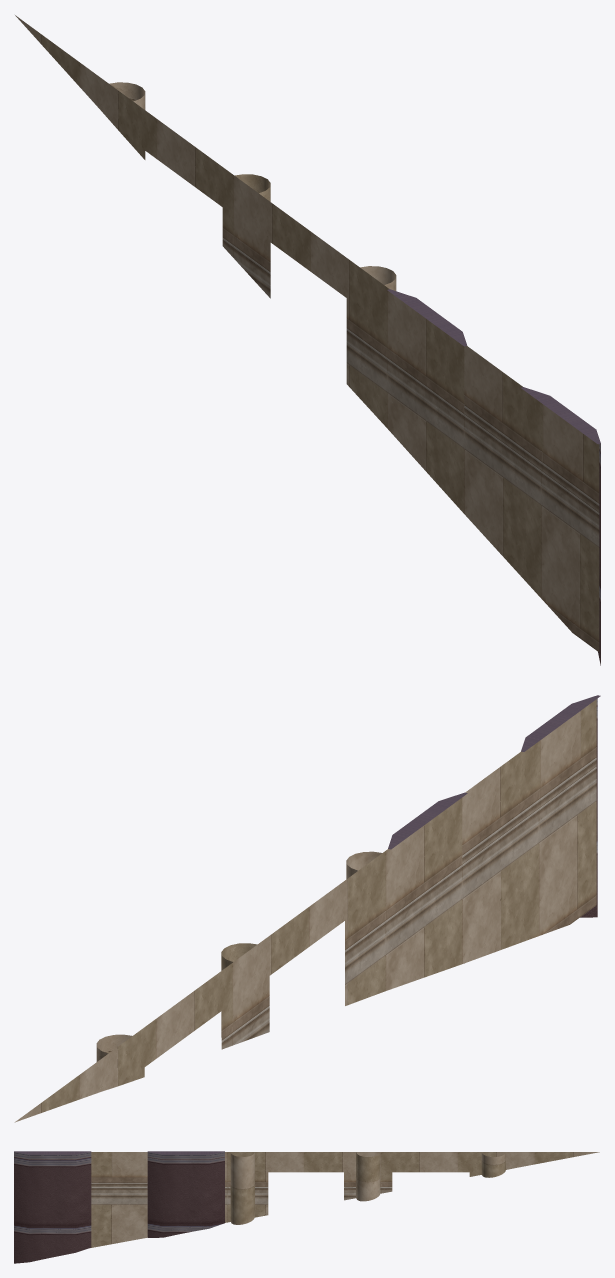
File: Cor1_bldg_walk_young_top.fbx
The picture shows the model from 3 angles, top to bottom: view 1: azimuth 30°, elevation 25°; view 2: azimuth 150°, elevation 25°; view 3: azimuth 270°, elevation 25°; orthographic projection. The views are drawn at different scales.
Visible parts, largest first — view 1: top_verttrick, polymsh1181, polymsh_detached29; view 2: top_verttrick, polymsh1181, polymsh_detached29; view 3: polymsh1181, top_verttrick, polymsh_detached29.
Boxes of the visible parts, x1,y1,x2,y2 form: top_verttrick: [15, 15, 599, 651]; polymsh1181: [387, 289, 600, 665]; polymsh_detached29: [109, 82, 396, 290]; top_verttrick: [14, 699, 596, 1122]; polymsh1181: [388, 695, 600, 917]; polymsh_detached29: [96, 851, 381, 1061]; polymsh1181: [14, 1151, 224, 1263]; top_verttrick: [91, 1152, 599, 1247]; polymsh_detached29: [230, 1152, 505, 1224].
Bounding box in the file's own units: 144 × 1276 × 6078.
